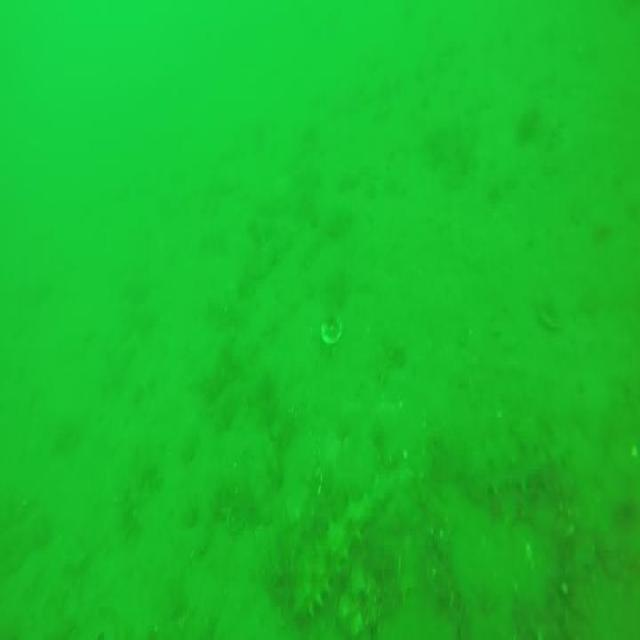holothurian: (287, 470, 400, 620), (466, 441, 575, 495)
scallop: (321, 312, 342, 344)
